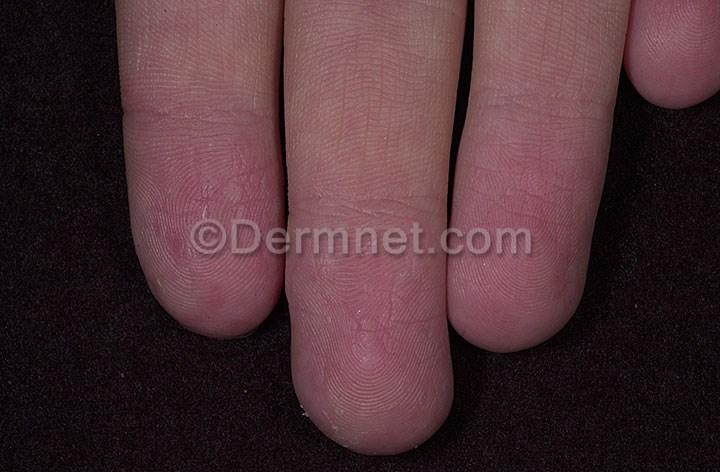Eczema: (322, 290, 418, 390), (177, 132, 287, 219), (189, 262, 251, 324), (140, 202, 187, 279)
